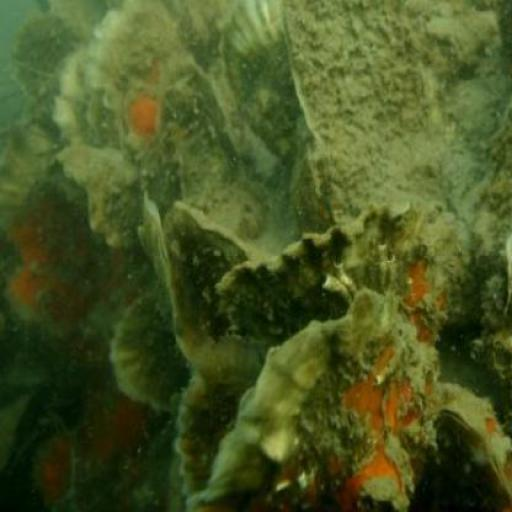Oyster-Closed: (206, 302, 443, 512), (215, 209, 450, 354)
Oyster-Open: (61, 1, 242, 211)
